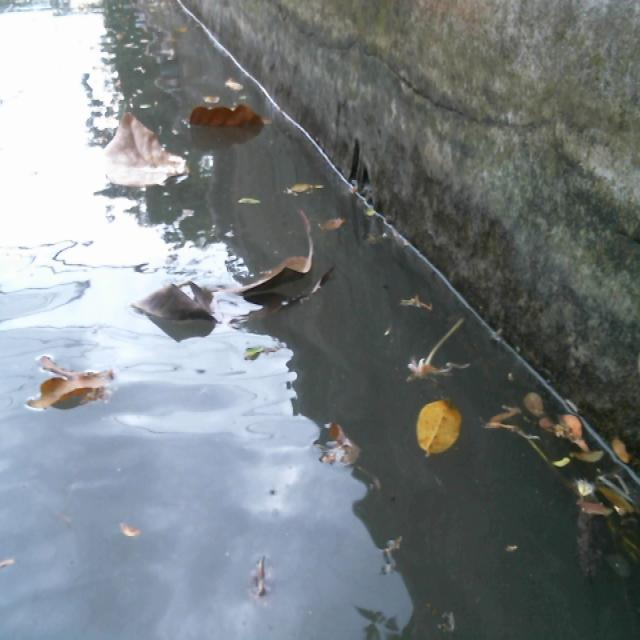Big-leaf: (128, 222, 327, 358), (80, 99, 194, 201), (31, 350, 121, 423), (198, 103, 285, 149)
Small-leaf: (419, 384, 465, 458), (317, 423, 363, 472), (275, 168, 328, 205), (226, 191, 268, 221), (512, 379, 544, 416), (561, 408, 589, 448), (322, 212, 352, 236), (612, 439, 633, 472), (222, 66, 244, 84)
